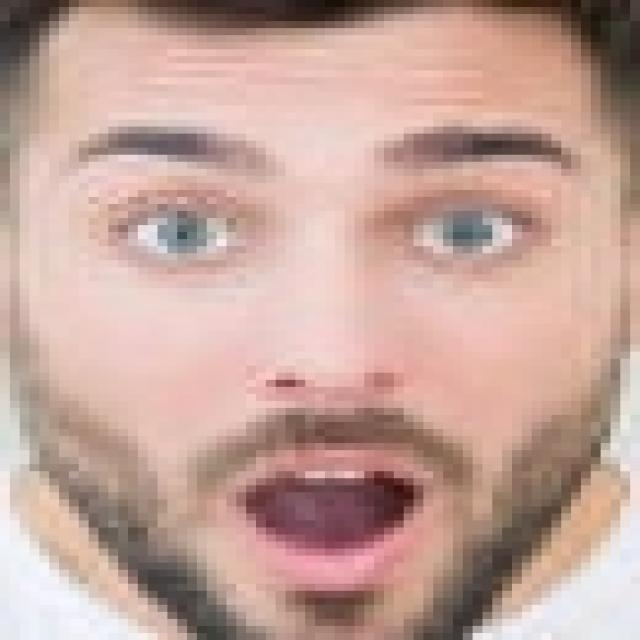Anxiety: (0, 0, 630, 633)
